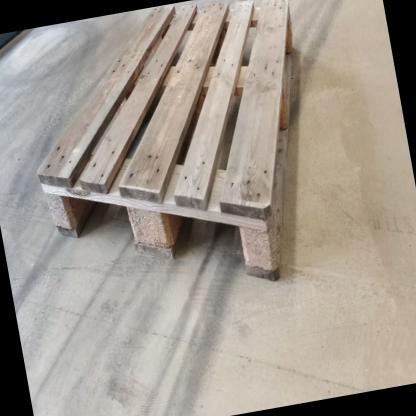BoxFace: (33, 0, 297, 282)
